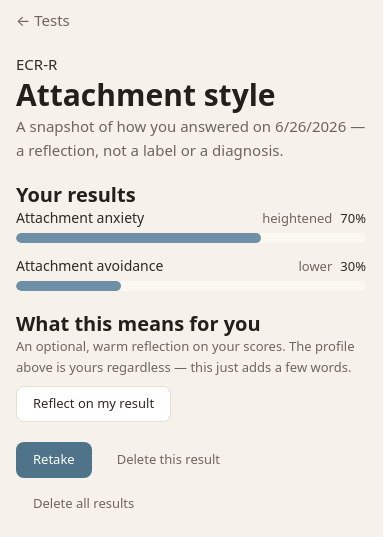
Test: TestResultScreen › the narrative button spends + renders prose; a non-ok response shows a calm state
Click the button "Reflect on my result".
click(94, 404)  # box left=16, top=386, right=171, bottom=422
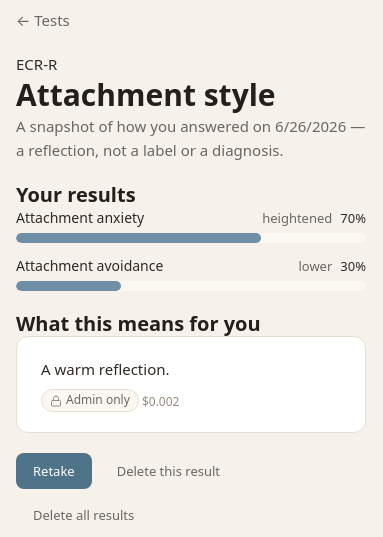
Now the text "A warm reflection." is shown, box left=41, top=359, right=170, bottom=379
Now the text "Admin only $0.002" is shown, box left=41, top=389, right=180, bottom=412
